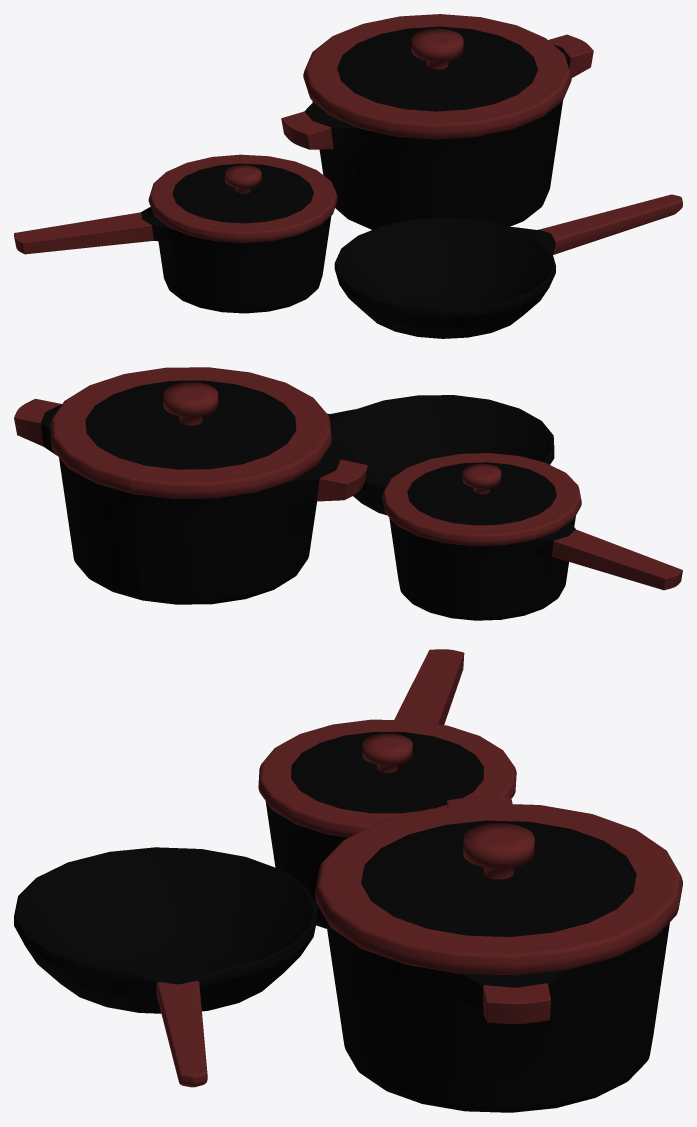
Rendered from conjunto_de_panelas_post.fbx.
3 renders of one model, top to bottom at view 1: azimuth 30°, elevation 25°; view 2: azimuth 150°, elevation 25°; view 3: azimuth 270°, elevation 25°, orthographic. The views are drawn at different scales.
Parts seen in each view (by area): view 1: pCylinder2, pCylinder1, pCylinder3; view 2: pCylinder2, pCylinder1, pCylinder3; view 3: pCylinder2, pCylinder3, pCylinder1.
Part boxes in pixels (<box>): pCylinder2: <box>281,14,593,229</box>; pCylinder1: <box>14,154,337,313</box>; pCylinder3: <box>334,194,682,338</box>; pCylinder2: <box>14,367,367,604</box>; pCylinder1: <box>382,453,682,620</box>; pCylinder3: <box>327,395,554,515</box>; pCylinder2: <box>315,796,682,1112</box>; pCylinder3: <box>14,847,317,1087</box>; pCylinder1: <box>258,649,516,928</box>.
Bounding box in the file's own units: 38.98 × 9.76 × 27.56.
